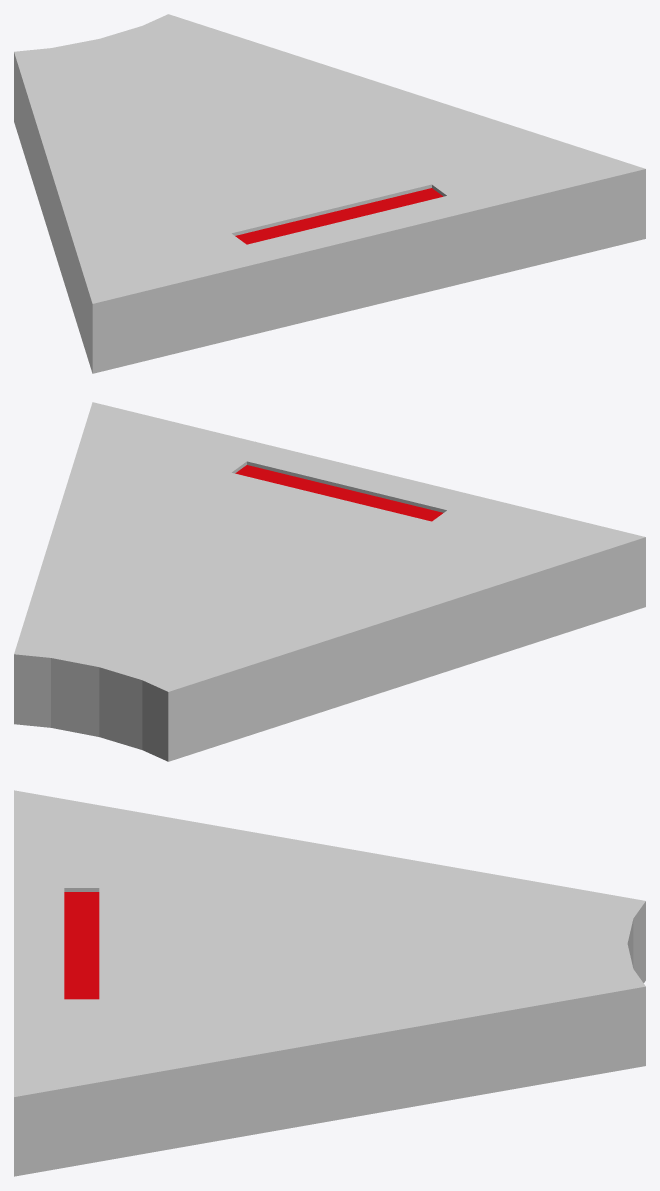
Rendered from circularButton.fbx.
The picture shows the model from 3 angles, top to bottom: view 1: azimuth 30°, elevation 25°; view 2: azimuth 150°, elevation 25°; view 3: azimuth 270°, elevation 25°; orthographic projection. The views are drawn at different scales.
Parts seen in each view (by area): view 1: Button B, Cube; view 2: Button B, Cube; view 3: Button B, Cube.
Boxes of the visible parts, box(x1,y1,x2,y2) form: Button B: box(14, 14, 645, 373); Cube: box(235, 188, 442, 244); Button B: box(14, 402, 645, 761); Cube: box(235, 465, 442, 521); Button B: box(14, 790, 645, 1176); Cube: box(64, 892, 99, 999).
Bounding box in the file's own units: 82.82 × 10 × 72.08.
